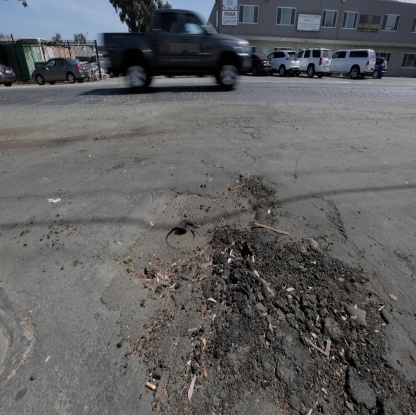pothole: (177, 209, 387, 378)
